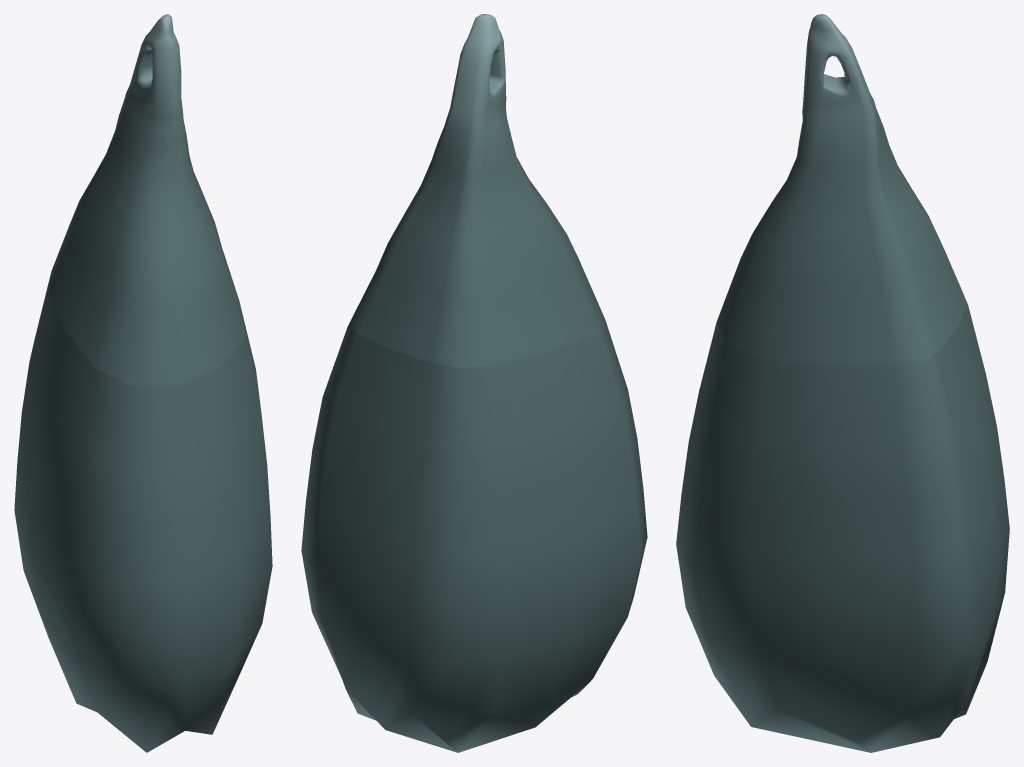
Rendered from ISLAND_HOLE.fbx.
The picture shows the model from 3 angles, left to right: view 1: azimuth 30°, elevation 25°; view 2: azimuth 150°, elevation 25°; view 3: azimuth 270°, elevation 25°; orthographic projection. The views are drawn at different scales.
Visible parts, largest first — view 1: ISLAND_HOLE1, ISLAND_HOLE; view 2: ISLAND_HOLE1, ISLAND_HOLE; view 3: ISLAND_HOLE1, ISLAND_HOLE.
Boxes of the visible parts, box(x1,y1,x2,y2) form: ISLAND_HOLE1: box(14, 272, 272, 752); ISLAND_HOLE: box(48, 14, 245, 386); ISLAND_HOLE1: box(301, 320, 647, 752); ISLAND_HOLE: box(348, 14, 605, 367); ISLAND_HOLE1: box(676, 305, 1009, 752); ISLAND_HOLE: box(716, 14, 967, 364).
Bounding box in the file's own units: 25.84 × 73.12 × 30.04.
